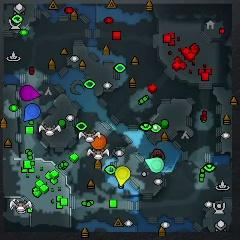p1: (24, 104, 40, 121)
p2: (144, 157, 165, 173)
p3: (20, 85, 40, 102)
p4: (115, 166, 131, 187)
p5: (91, 134, 106, 150)
